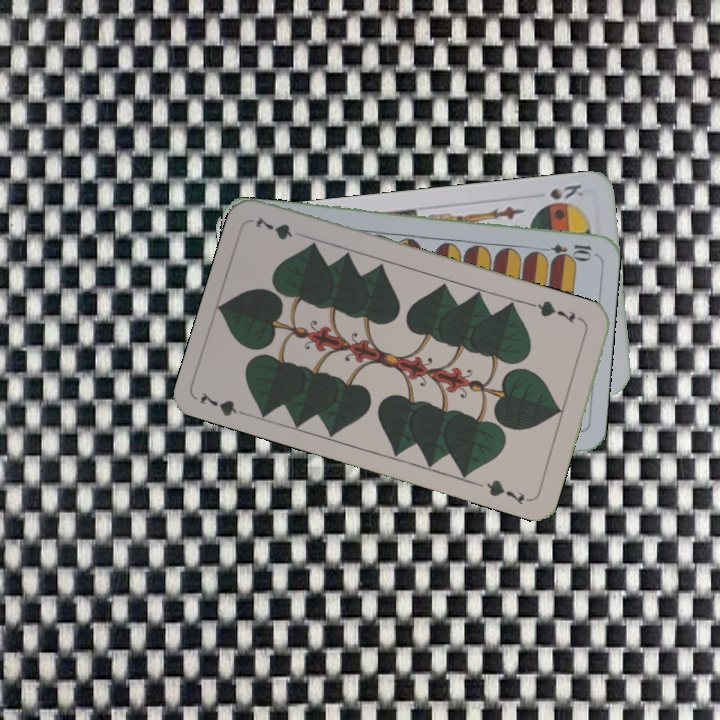E10: (535, 240, 594, 260)
G7: (196, 388, 254, 420), (529, 296, 578, 326)
SK: (546, 180, 586, 202)
